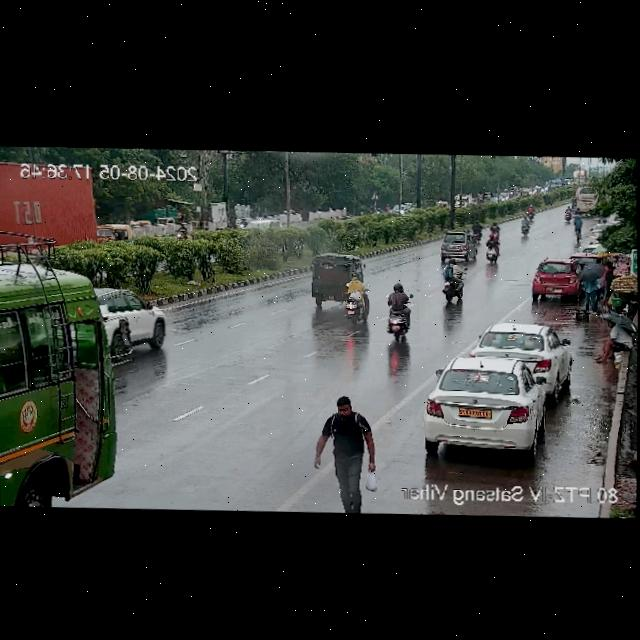bus: (0, 299, 118, 507), (572, 184, 605, 213)
car: (418, 354, 564, 456), (471, 321, 568, 383), (93, 289, 170, 355), (305, 254, 365, 308), (530, 259, 580, 297), (429, 232, 474, 264), (99, 221, 131, 251), (587, 221, 618, 246), (233, 219, 279, 232)
motorcycle: (385, 281, 418, 342), (437, 260, 467, 302), (480, 237, 501, 264), (514, 203, 539, 223), (568, 214, 583, 244), (462, 220, 482, 240), (171, 223, 188, 242)
person: (328, 392, 370, 477), (592, 318, 633, 362), (580, 264, 606, 312)
truck: (0, 157, 100, 254)
